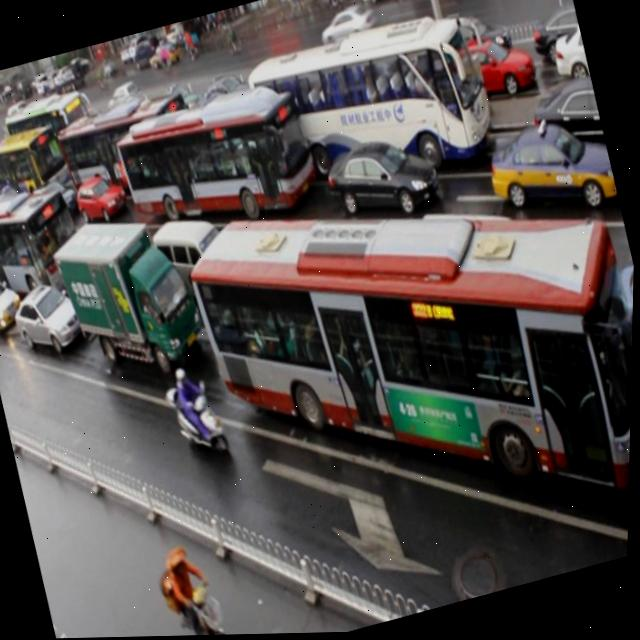bus: (45, 194, 207, 391)
car: (478, 110, 622, 237), (246, 216, 384, 345), (318, 126, 444, 233), (524, 78, 611, 179), (66, 227, 156, 315), (6, 268, 87, 355), (71, 168, 130, 227), (24, 174, 83, 232), (0, 262, 25, 332)
truck: (396, 182, 574, 374), (146, 203, 252, 321)
van: (175, 126, 638, 587), (241, 6, 500, 212), (110, 72, 324, 249), (51, 87, 204, 216), (0, 173, 95, 319), (0, 121, 73, 213)
